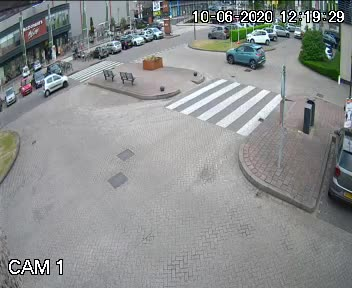car: (223, 40, 267, 72), (37, 71, 69, 96)
